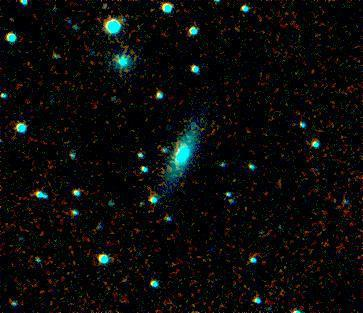star: (0, 2, 23, 32)
